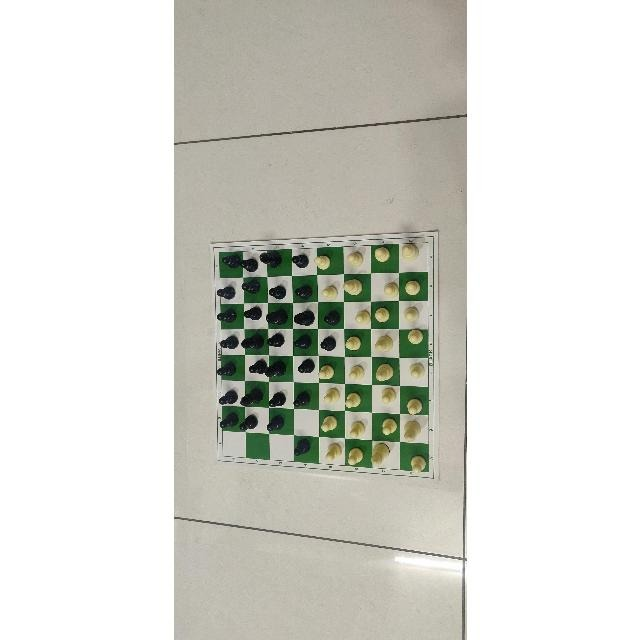black-bishop: (259, 249, 285, 270), (262, 359, 287, 379), (239, 387, 263, 407), (264, 308, 287, 328), (239, 332, 263, 351), (292, 308, 316, 327)
black-pawn: (215, 307, 238, 325), (240, 278, 262, 296), (241, 305, 263, 323), (292, 283, 312, 301), (267, 285, 287, 303), (291, 333, 310, 351), (291, 390, 310, 408), (266, 390, 285, 408), (220, 253, 239, 271), (318, 335, 338, 352), (239, 256, 259, 273), (216, 283, 236, 300), (217, 388, 237, 405), (291, 252, 309, 270), (293, 438, 311, 456), (239, 414, 257, 432), (321, 310, 341, 326), (218, 335, 238, 351), (217, 362, 237, 378), (296, 357, 314, 374), (248, 359, 266, 376), (219, 411, 237, 428), (265, 416, 284, 432), (265, 333, 284, 348)
white-bishop: (368, 442, 391, 468), (401, 418, 421, 441), (373, 362, 395, 382), (341, 278, 362, 298), (400, 242, 420, 262), (374, 334, 394, 354)
white-pawn: (403, 396, 424, 416), (408, 455, 428, 475), (378, 416, 397, 437), (324, 441, 342, 463), (342, 335, 364, 353), (378, 386, 397, 406), (401, 304, 421, 323), (312, 252, 332, 271), (345, 251, 367, 268), (316, 362, 335, 381), (346, 447, 364, 467), (348, 421, 366, 441), (405, 328, 425, 346), (353, 308, 371, 327), (320, 414, 337, 434), (371, 305, 391, 322), (318, 283, 338, 300), (372, 246, 392, 263), (404, 278, 422, 296), (407, 361, 424, 380), (323, 386, 339, 406), (344, 391, 362, 408), (347, 363, 365, 380), (382, 282, 400, 299)
